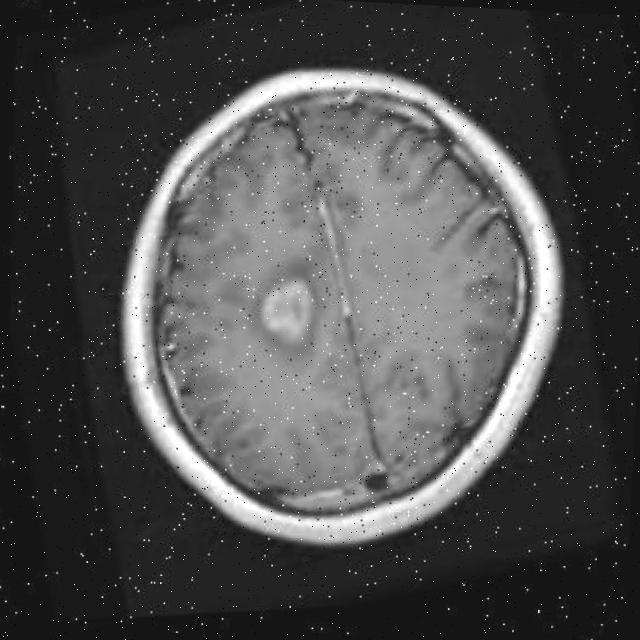CN: (210, 186, 342, 410)
